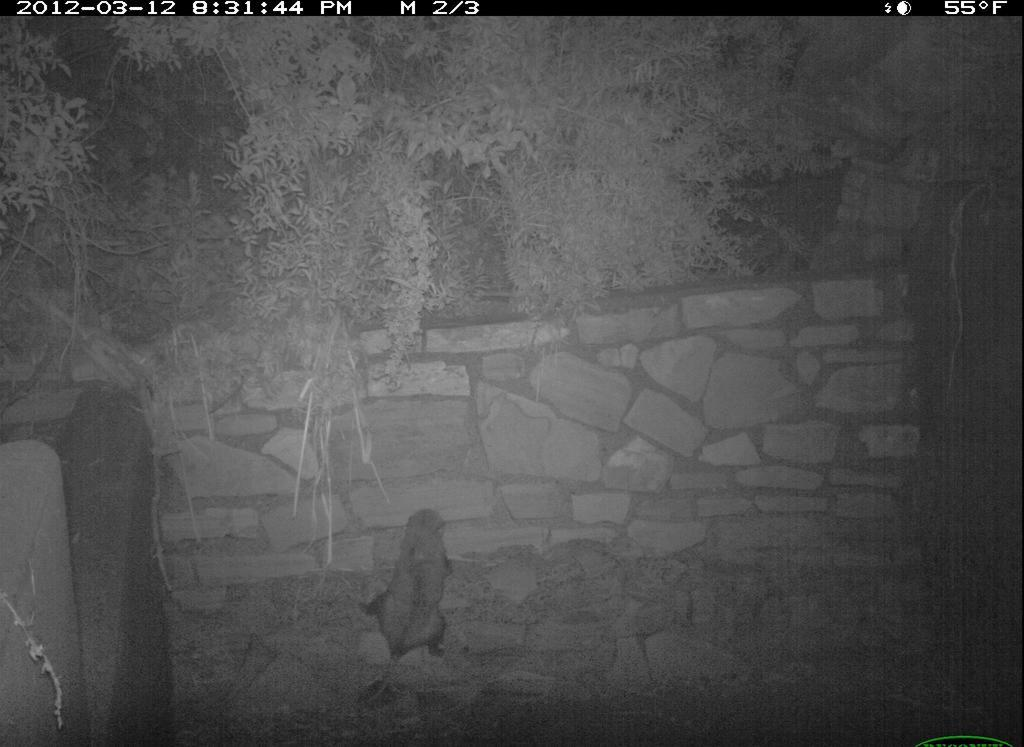opossum: (368, 507, 483, 697)
